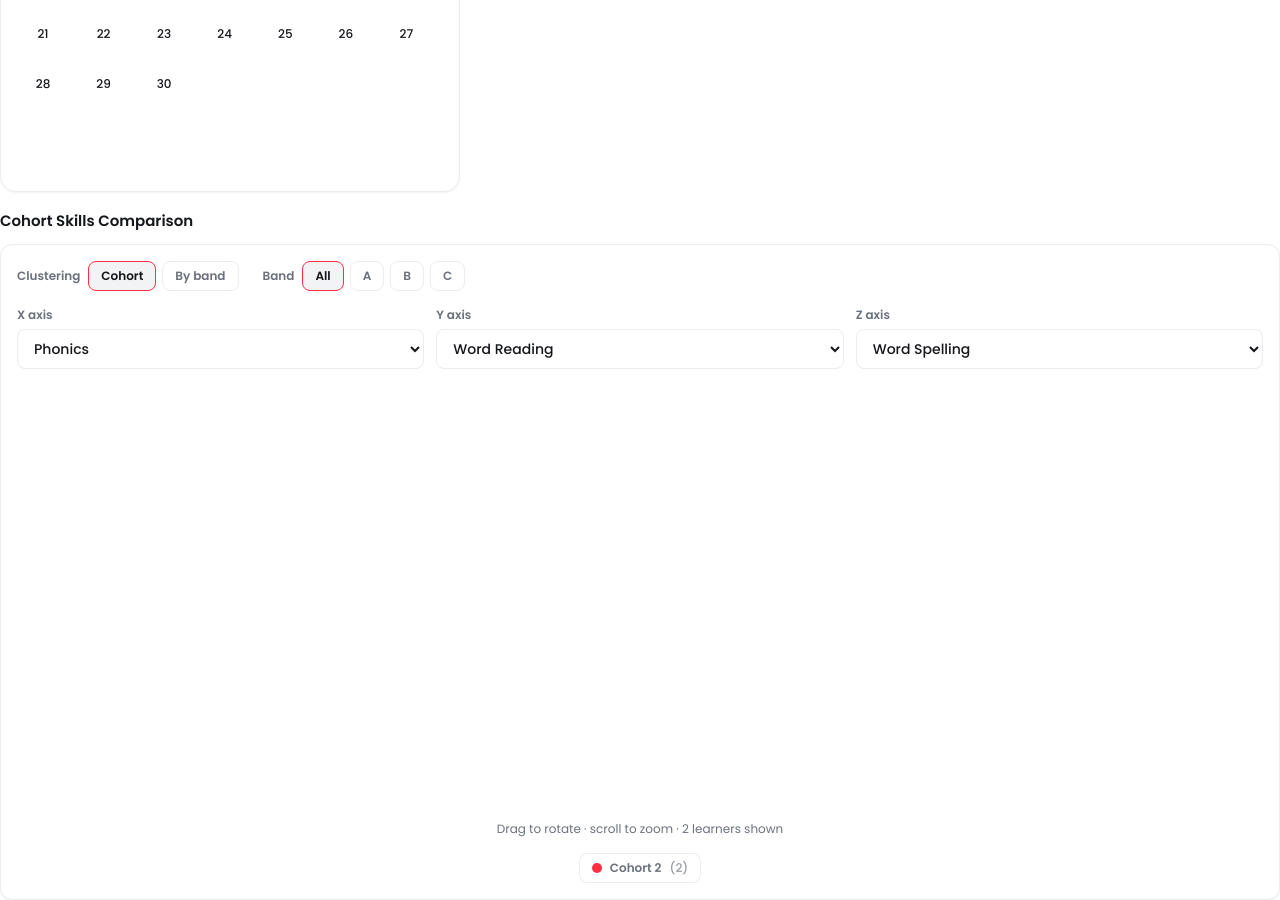
Scenario: UT-2.55: a research-cohort learner opens too, by their uuid
The width and height of the screenshot is (1280, 900).
(page scrolled)
Click the button "Cohort 2 (2)" at (640, 868), box top-left (579, 854), bottom-right (701, 884)
(page scrolled)
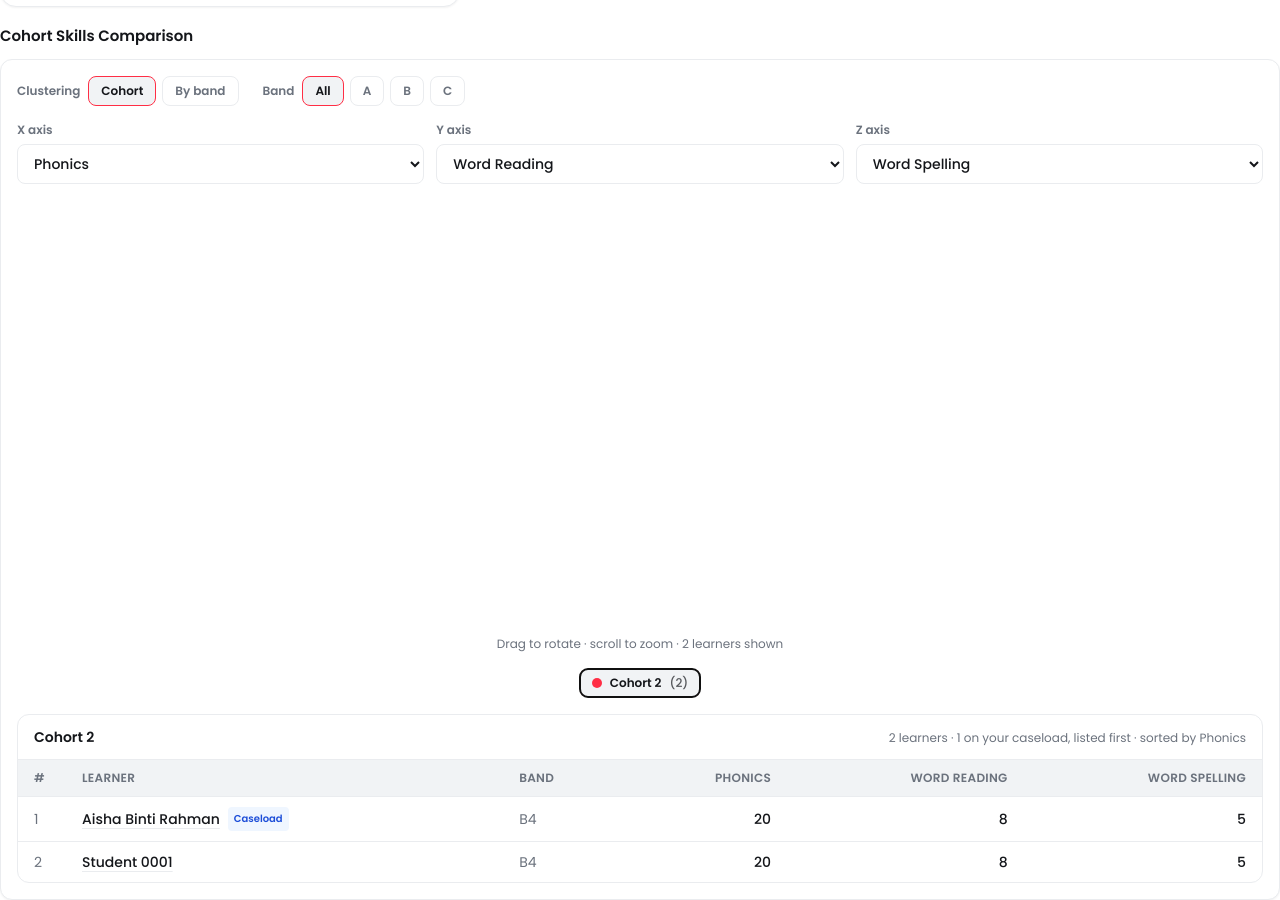
Click the button "Student 0001" at (127, 862), box top-left (82, 852), bottom-right (173, 872)
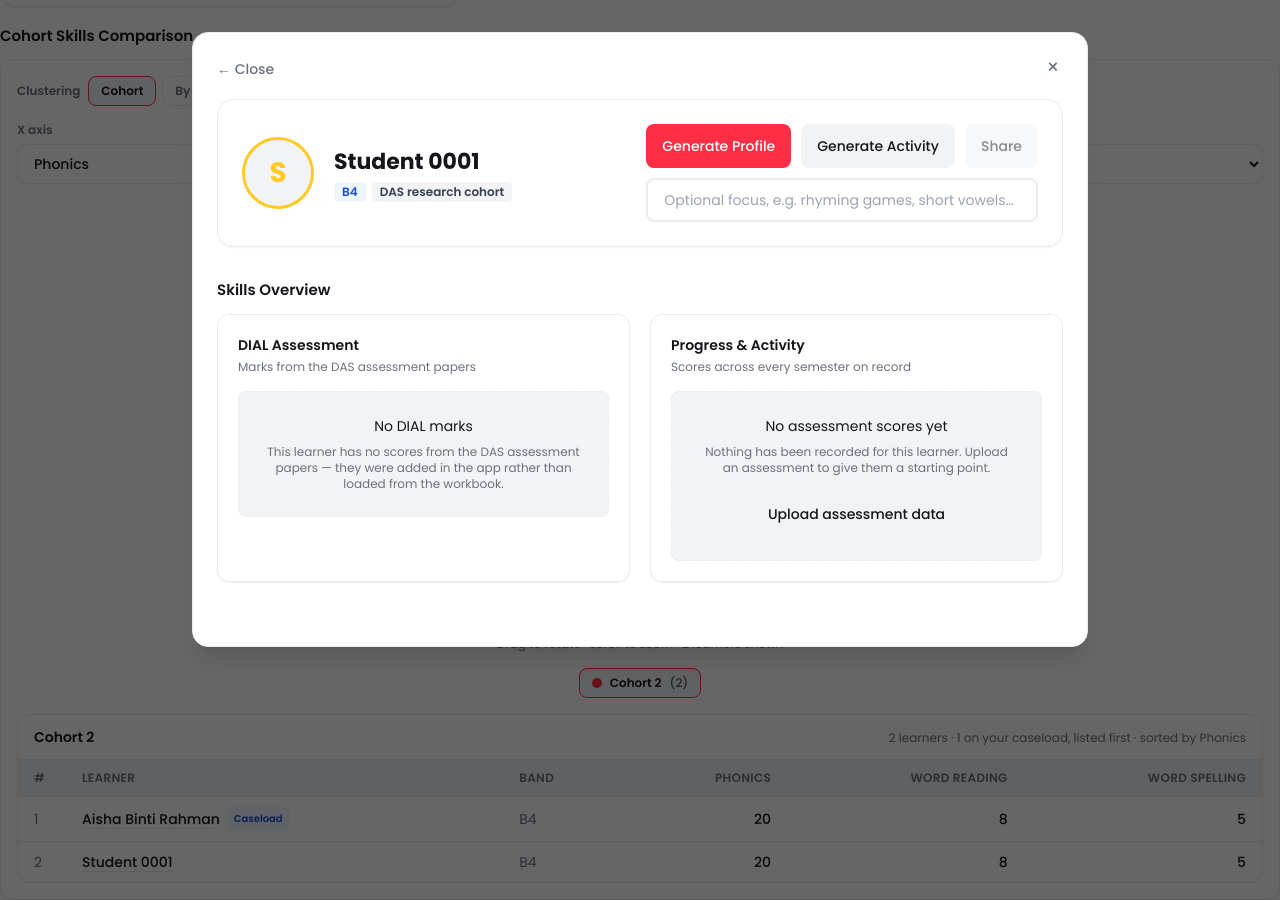
Result: the dialog is shown at top-left (192, 32), bottom-right (1088, 646)
